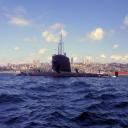submarine: (16, 23, 116, 77)
